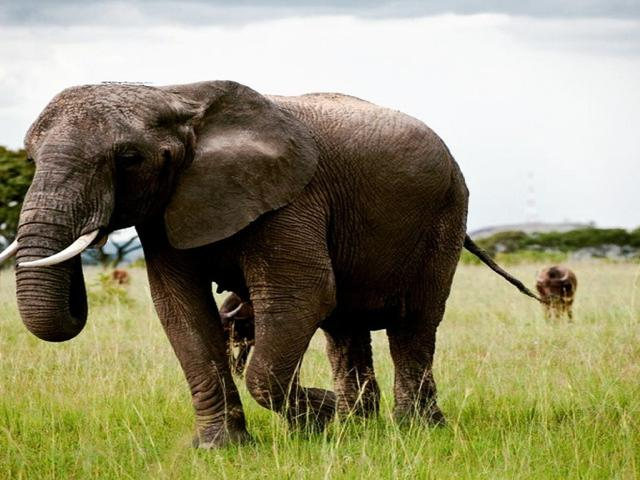elephant: (14, 48, 503, 437)
